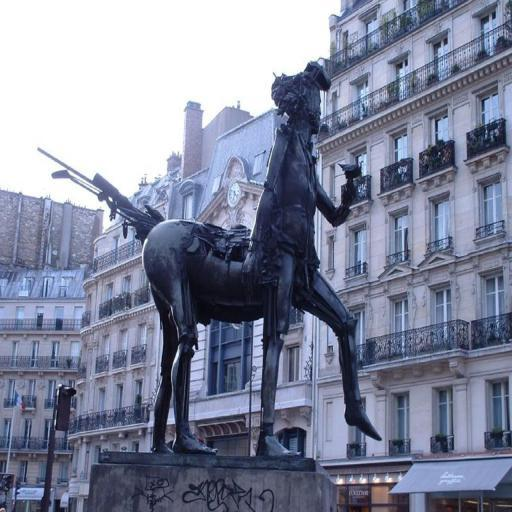Horse: (35, 60, 380, 456)
